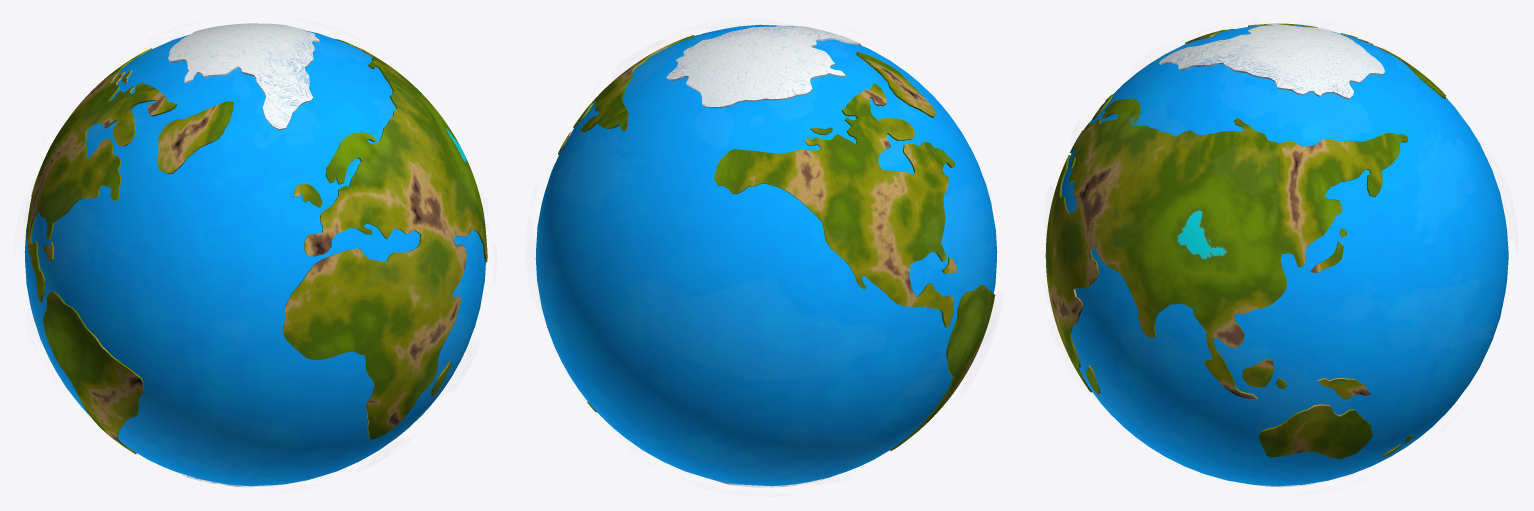
Rendered from little_planet_earth.glb.
The picture shows the model from 3 angles, left to right: view 1: azimuth 30°, elevation 25°; view 2: azimuth 150°, elevation 25°; view 3: azimuth 270°, elevation 25°; orthographic projection.
Parts seen in each view (by area): view 1: Ocean, CONT_Extrude, SP_Extrude; view 2: Ocean, CONT_Extrude, SP_Extrude; view 3: Ocean, CONT_Extrude, SP_Extrude.
Boxes of the visible parts, <box> form: Ocean: <box>24,30,485,486</box>; CONT_Extrude: <box>26,39,487,454</box>; SP_Extrude: <box>168,23,319,130</box>; Ocean: <box>535,24,997,486</box>; CONT_Extrude: <box>558,34,995,450</box>; SP_Extrude: <box>666,25,860,107</box>; Ocean: <box>1061,25,1508,486</box>; CONT_Extrude: <box>1045,23,1445,459</box>; SP_Extrude: <box>1159,23,1384,99</box>.
Size of the model in its own units: 1040 by 1040 by 1040.
Materials: 4 (3 with a texture image).
